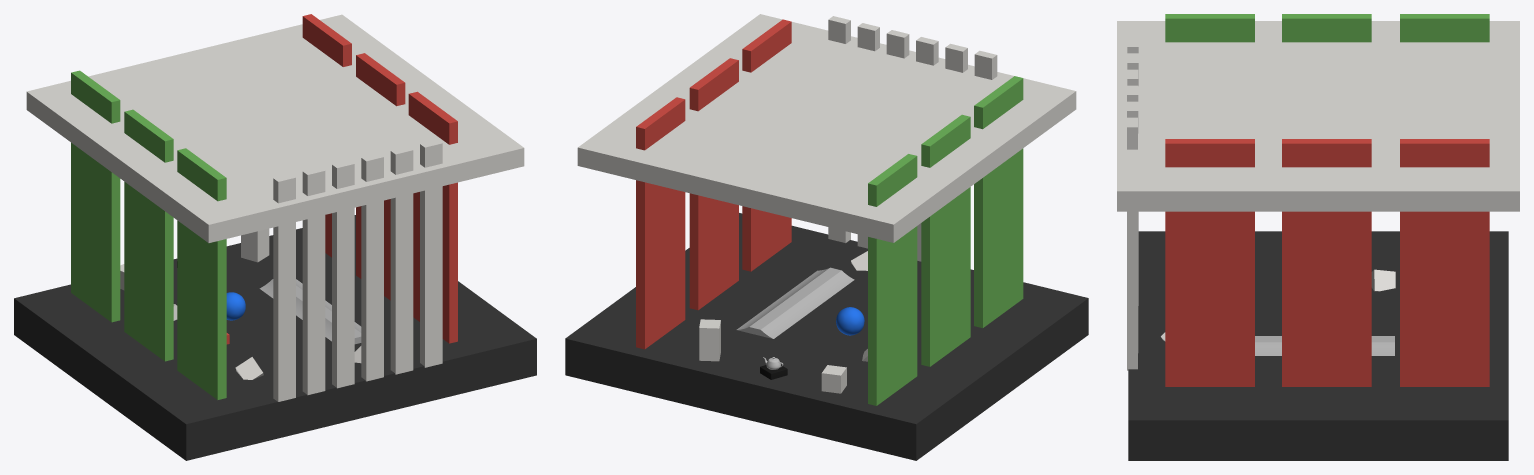
Rendered from track.gltf.
3 views of the same model, side by side, from view 1: azimuth 30°, elevation 25°; view 2: azimuth 150°, elevation 25°; view 3: azimuth 270°, elevation 25° (orthographic). The views are drawn at different scales.
Visible parts, largest first — view 1: Cube.018, Cube, Cube.006, Cube.007, Cube.008, Cube.010, Cube.019, Cube.022, Cube.023, Cube.017, Cube.020, Cube.021 (+4 smaller); view 2: Cube.018, Cube, Cube.008, Cube.005, Cube.006, Cube.007, Cube.009, Cube.010, Cube.029, Cube.012, Cube.023, Cube.020 (+6 smaller); view 3: Cube.018, Cube, Cube.010, Cube.009, Cube.005, Cube.006, Cube.007, Cube.008, Cube.023, Cube.029, Cube.014.
Boxes of the visible parts, x1,y1,x2,y2 form: Cube.018: (26, 14, 524, 242); Cube: (14, 215, 536, 460); Cube.006: (177, 148, 226, 399); Cube.007: (124, 109, 173, 361); Cube.008: (71, 70, 120, 322); Cube.010: (408, 91, 457, 343); Cube.019: (302, 167, 325, 395); Cube.022: (390, 146, 413, 374); Cube.023: (420, 139, 442, 367); Cube.017: (273, 174, 295, 401); Cube.020: (332, 160, 354, 388); Cube.021: (361, 153, 383, 381); Cube.018: (577, 14, 1076, 242); Cube: (565, 213, 1088, 460); Cube.008: (868, 154, 917, 405); Cube.005: (636, 97, 685, 349); Cube.006: (974, 76, 1023, 328); Cube.007: (921, 114, 970, 366); Cube.009: (689, 58, 738, 310); Cube.010: (742, 19, 791, 271); Cube.029: (736, 267, 854, 338); Cube.012: (699, 319, 720, 361); Cube.023: (828, 16, 850, 242); Cube.020: (916, 37, 938, 261); Cube.018: (1117, 21, 1519, 211); Cube: (1128, 231, 1508, 460); Cube.010: (1165, 139, 1254, 386); Cube.009: (1282, 139, 1371, 386); Cube.005: (1400, 139, 1489, 386); Cube.006: (1165, 14, 1254, 42); Cube.007: (1282, 14, 1371, 42); Cube.008: (1400, 14, 1489, 42); Cube.023: (1127, 117, 1137, 370); Cube.029: (1255, 336, 1394, 355); Cube.014: (1371, 269, 1395, 291).
Bounding box in the file's own units: 80 × 56 × 72.
